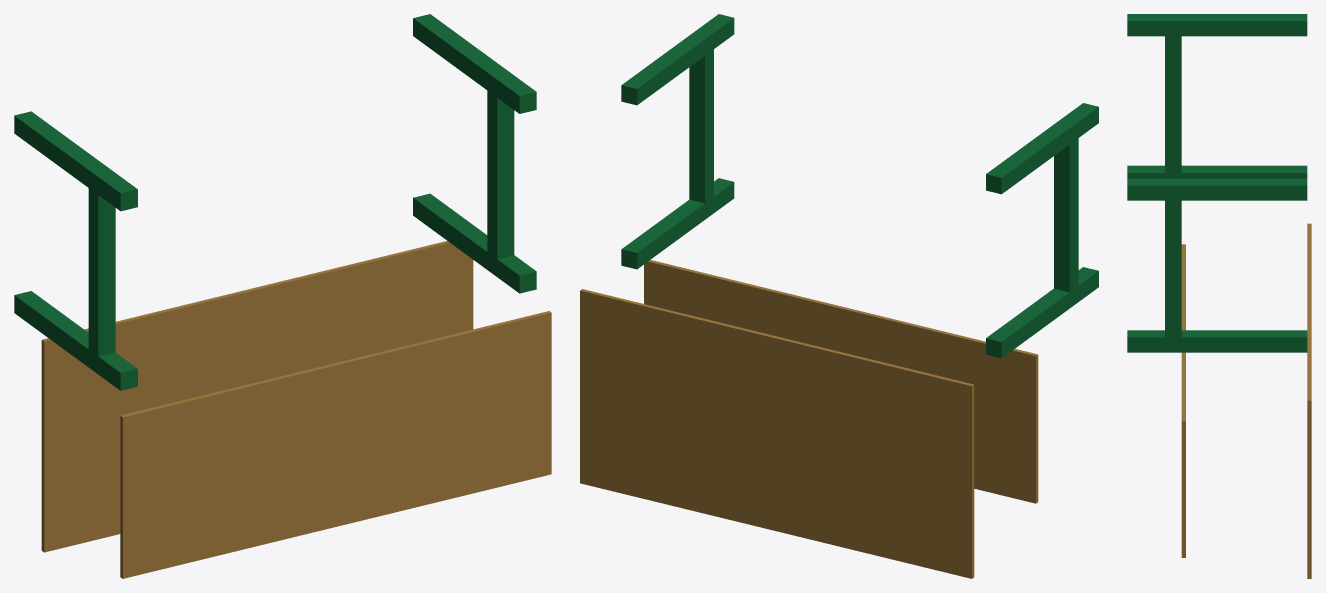
File: Wooden Table.fbx
3 renders of one model, left to right at view 1: azimuth 30°, elevation 25°; view 2: azimuth 150°, elevation 25°; view 3: azimuth 270°, elevation 25°, orthographic. The views are drawn at different scales.
Visible parts, largest first — view 1: group_0_10714171, group_0_1206582; view 2: group_0_10714171, group_0_1206582; view 3: group_0_1206582, group_0_10714171.
Part boxes in pixels (x1=…): group_0_10714171: x1=41, y1=241, x2=551, y2=578; group_0_1206582: x1=14, y1=14, x2=536, y2=390; group_0_10714171: x1=580, y1=260, x2=1038, y2=578; group_0_1206582: x1=621, y1=14, x2=1098, y2=358; group_0_1206582: x1=1127, y1=14, x2=1307, y2=352; group_0_10714171: x1=1181, y1=223, x2=1311, y2=578.
Bounding box in the file's own units: 108 × 99 × 44.
